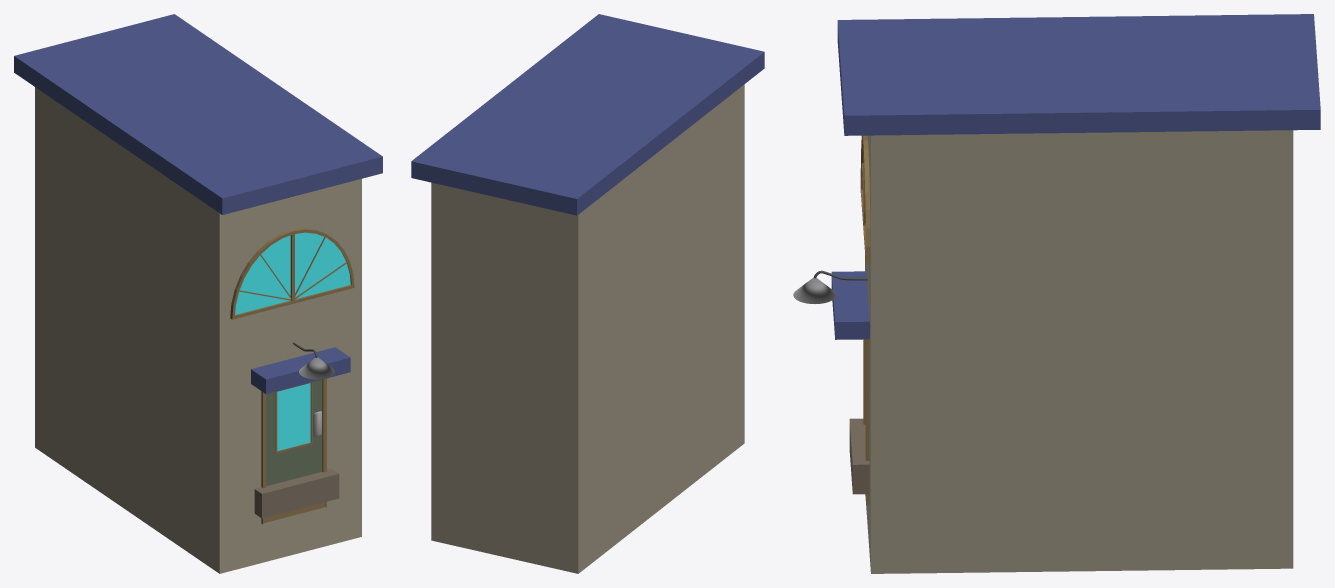
File: office_compressed.glb
The picture shows the model from 3 angles, left to right: view 1: azimuth 30°, elevation 25°; view 2: azimuth 150°, elevation 25°; view 3: azimuth 270°, elevation 25°; orthographic projection. The views are drawn at different scales.
Parts seen in each view (by area): view 1: Cube.320, Cube.306, Cube.321, Cone.709; view 2: Cube.320; view 3: Cube.320, Cube.306, Cube.321, Cone.709.
Part boxes in pixels (x1,y1,x2,y2): Cube.320: (14,14,382,573); Cube.306: (230,228,354,524); Cube.321: (254,469,339,518); Cone.709: (299,357,334,379); Cube.320: (411,14,764,573); Cube.320: (831,14,1320,573); Cube.306: (860,135,870,504); Cube.321: (849,418,869,494); Cone.709: (793,277,836,303).
Bounding box in the file's own units: 0.752 × 1.6 × 1.65.
